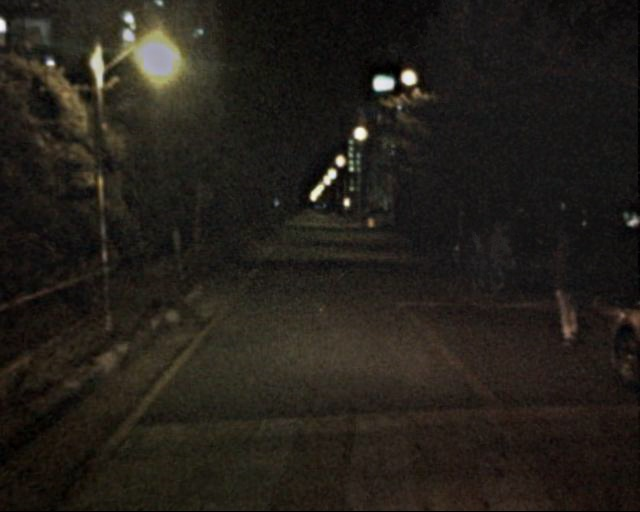person: (544, 229, 591, 343), (484, 222, 520, 300), (462, 227, 498, 302)
